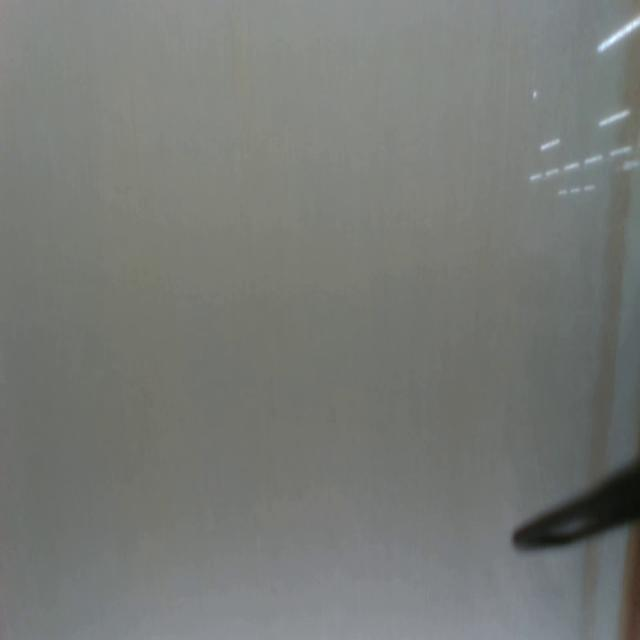color bleeding: (610, 528, 640, 640)
